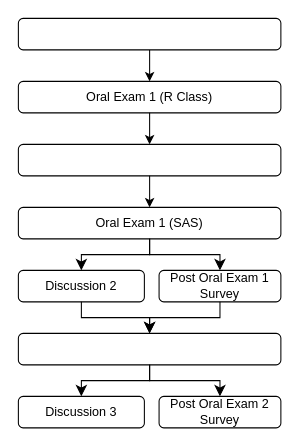
This 299x446 diagram has some shape labels left out. Here are the shapes that lost their labels. From the top down, the centre of each, then its label:
At point (149, 33): "Pre-Exam Survey".
At point (149, 159): "Discussion 1".
At point (149, 348): "Oral Exam 2 (Both Classes)".
